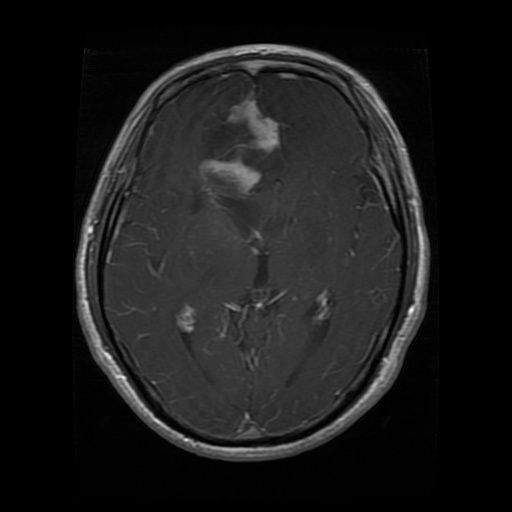glioma: (206, 103, 283, 233)
